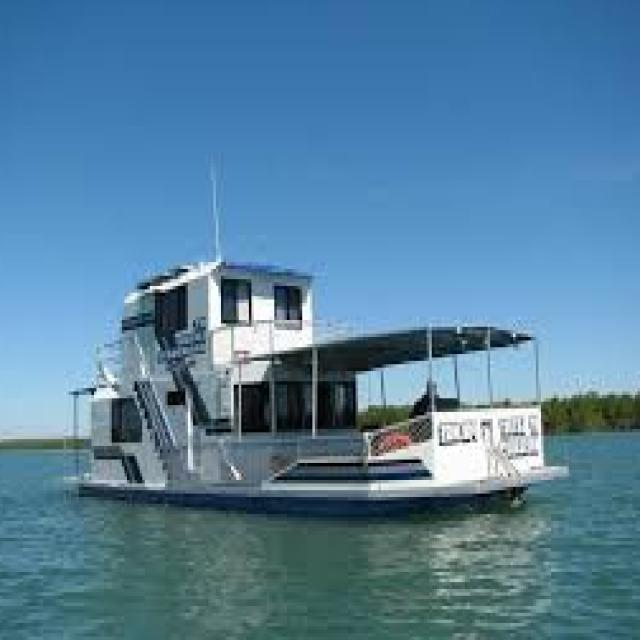houseboat: (56, 234, 558, 520)
